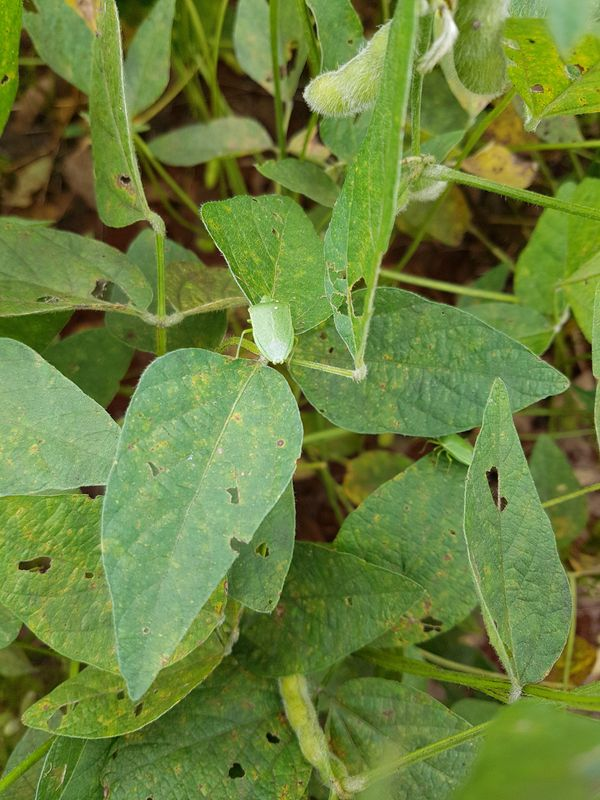Nezara_viridula_adulto: (222, 283, 312, 381), (415, 424, 480, 480)
